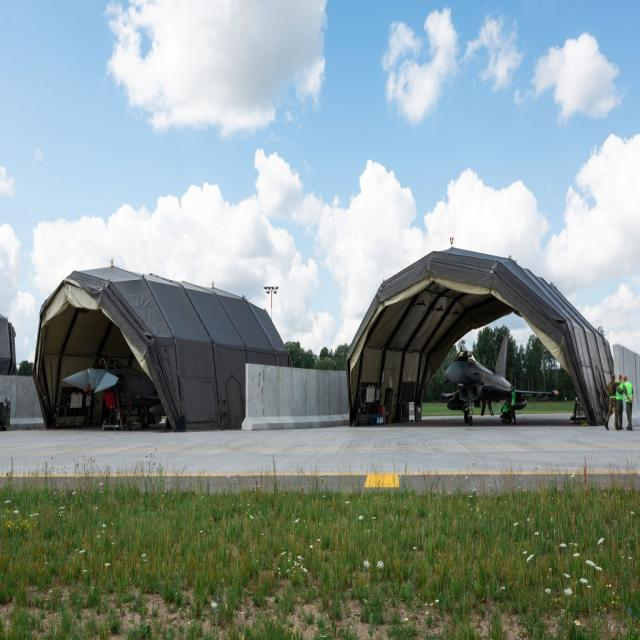MIL_Plane: (441, 330, 559, 426), (62, 357, 167, 430)
